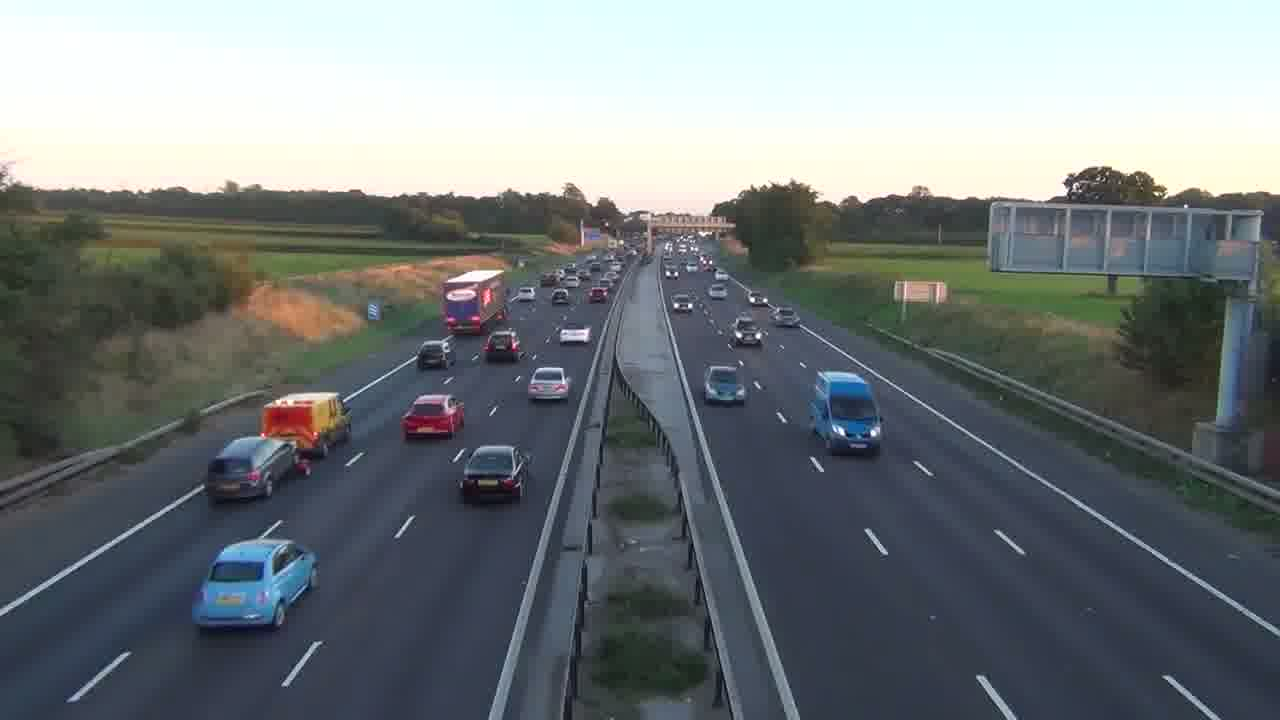bus: (441, 268, 508, 335)
car: (192, 536, 319, 631), (205, 435, 297, 502), (459, 443, 533, 504), (400, 393, 465, 440), (703, 364, 747, 406), (527, 366, 571, 402), (483, 329, 521, 363), (415, 338, 454, 370), (671, 295, 694, 314)
truck: (259, 390, 352, 457), (811, 370, 883, 456)
